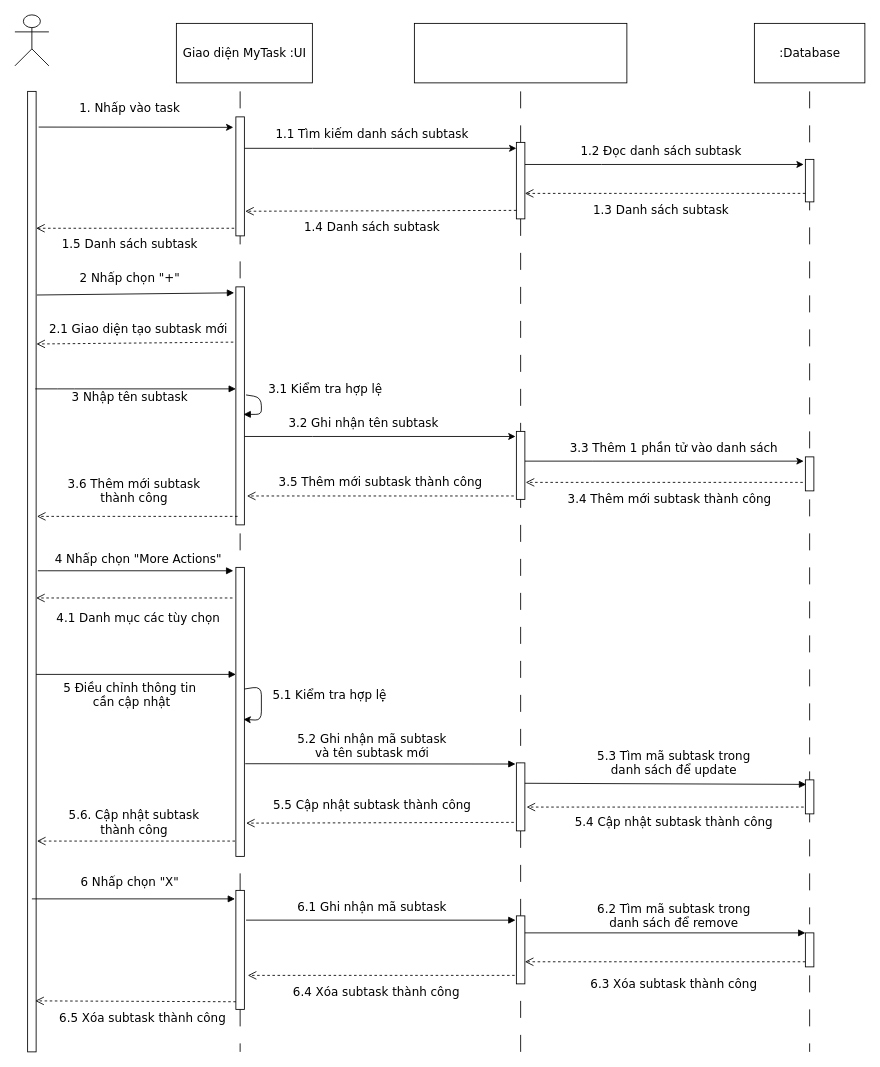
This 880x1067 diagram has some shape labels left out. Each missing label, with the centre of its shape:
":User" goes at (31,40).
"Subtask:SubtaskController" goes at (520,53).
